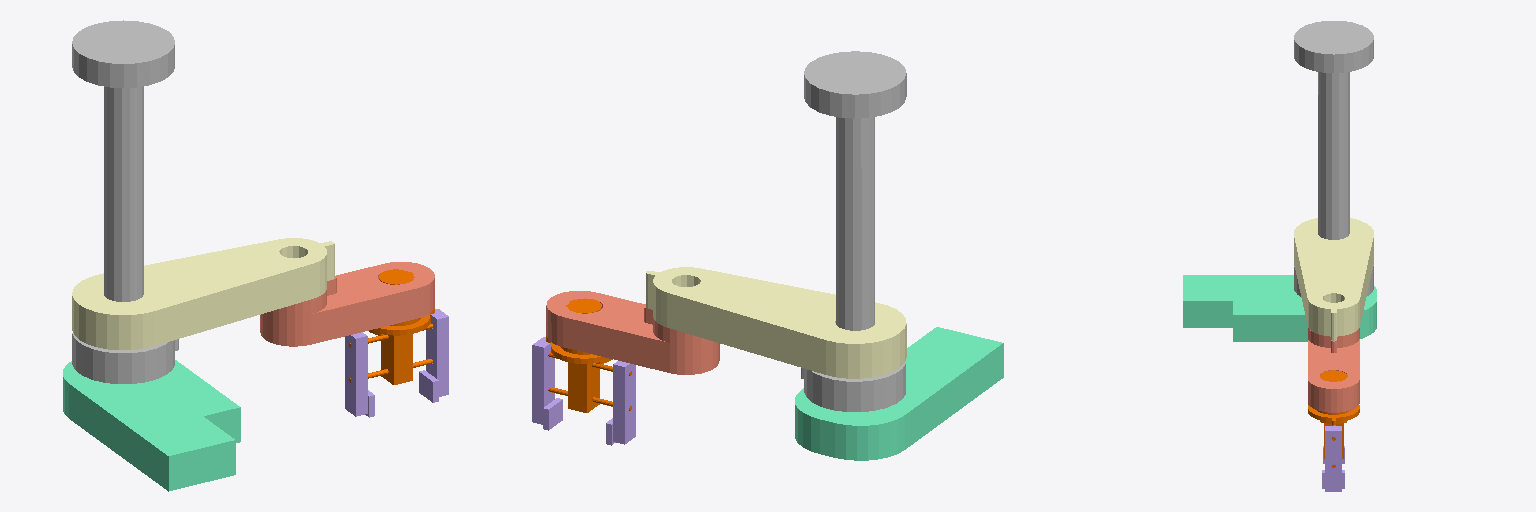
The robot description file, URDF, robot "Esamble_Sencillo_gripper":
<?xml version="1.0" encoding="utf-8"?>
<!-- This URDF was automatically created by SolidWorks to URDF Exporter! Originally created by [author] ([email redacted]) 
     Commit Version: 1.6.0-4-g7f85cfe  Build Version: 1.6.7995.38578
     For more information, please see http://wiki.ros.org/sw_urdf_exporter -->
<robot
  name="Esamble_Sencillo_gripper">

  <!-- Link "mundo" para anclar el robot 
  <link name="world" />
  
   Joint fijo que conecta el mundo con la base del robot 
  <joint name="world_to_base_joint" type="fixed">
    <parent link="world" />
    <child link="base_link" />
    <origin xyz="0 0 0" rpy="0 0 0" />
  </joint>
  -->

  <link
    name="base_link">
    <inertial>
      <origin
        xyz="-0.0050268 -0.078183 -0.0225"
        rpy="0 0 0" />
      <mass
        value="1.5106" />
      <inertia
        ixx="0.0093016"
        ixy="-0.00083013"
        ixz="-7.7076E-20"
        iyy="0.0025817"
        iyz="-1.5891E-19"
        izz="0.011373" />
    </inertial>
    <visual>
      <origin
        xyz="0 -0.0425 0"
        rpy="1.57 0 0" />
      <geometry>
        <mesh
          filename="package://scara_description/meshes/base_link.STL" />
      </geometry>
      <material
        name="">
        <color
          rgba="0.5 1.0 0.8 1.0" /> 
      </material>
    </visual>
    <collision>
      <origin
        xyz="0 -0.0425 0"
        rpy="1.57 0 0" />
      <geometry>
        <mesh
          filename="package://scara_description/meshes/base_link.STL" />
      </geometry>
    </collision>
  </link>


  <link
    name="Revolute_1_Link">
    <inertial>
      <origin
        xyz="0.00013035 -6.9389E-18 0.14006"
        rpy="0 0 0" />
      <mass
        value="1.4899" />
      <inertia
        ixx="0.035352"
        ixy="-3.1241E-21"
        ixz="3.3345E-05"
        iyy="0.035365"
        iyz="1.3213E-18"
        izz="0.0016385" />
    </inertial>
    <visual>
      <origin
        xyz="0 -0.0425 -0.0525"
        rpy="1.57 0 0" />
      <geometry>
        <mesh
          filename="package://scara_description/meshes/Revolute_1_Link.STL" />
      </geometry>
      <material
        name="">
        <color
          rgba="0.8 0.8 0.8 1.0" />
      </material>
    </visual>
    <collision>
      <origin
        xyz="0 -0.0425 -0.0525"
        rpy="1.57 0 0" />
      <geometry>
        <mesh
          filename="package://scara_description/meshes/Revolute_1_Link.STL" />
      </geometry>
    </collision>
  </link>


  <joint
    name="Revolute_1_Jint"
    type="revolute">
    <origin
      xyz="0 0 0.0525"
      rpy="0 0 0" />
    <parent
      link="base_link" />
    <child
      link="Revolute_1_Link" />
    <axis
      xyz="0 0 1" />
  <limit lower="-3.1415" upper="3.1415" effort="10" velocity="1.0" />
  </joint>


  <link
    name="Prismatic_1_link">
    <inertial>
      <origin
        xyz="0.094766 0 0.0225"
        rpy="0 0 0" />
      <mass
        value="1.2694" />
      <inertia
        ixx="0.0013484"
        ixy="5.6661E-19"
        ixz="5.1896E-20"
        iyy="0.009623"
        iyz="-2.4505E-22"
        izz="0.010543" />
    </inertial>
    <visual>
      <origin
        xyz="0 -0.0425 -0.3"
        rpy="1.57 0 0" />
      <geometry>
        <mesh
          filename="package://scara_description/meshes/Prismatic_1_link.STL" />
      </geometry>
      <material
        name="">
        <color
          rgba="1.0 1.0 0.8 1.0" />
      </material>
    </visual>
    <collision>
      <origin
        xyz="0 -0.0425 -0.3"
        rpy="1.57 0 0" />
      <geometry>
        <mesh
          filename="package://scara_description/meshes/Prismatic_1_link.STL" />
      </geometry>
    </collision>
  </link>
  <joint
    name="Prismatic_1_Joint"
    type="prismatic">
    <origin
      xyz="0 0 0.0525"
      rpy="0 0 0" />
    <parent
      link="Revolute_1_Link" />
    <child
      link="Prismatic_1_link" />
    <axis
      xyz="0 0 1" />
    <limit
      lower="0"
      upper="0.254"
      effort="0"
      velocity="0" />
  </joint>
  <link
    name="Revolute_2_Link">
    <inertial>
      <origin
        xyz="0.061686 -6.9389E-18 -0.015864"
        rpy="0 0 0" />
      <mass
        value="0.61164" />
      <inertia
        ixx="0.00044425"
        ixy="2.8532E-20"
        ixz="0.00013287"
        iyy="0.0022992"
        iyz="-1.7404E-20"
        izz="0.0024904" />
    </inertial>
    <visual>
      <origin
        xyz="-0.228 -0.0425 -0.281"
        rpy="1.57 0 0" />
      <geometry>
        <mesh
          filename="package://scara_description/meshes/Revolute_2_Link.STL" />
      </geometry>
      <material
        name="">
        <color
          rgba="1.0 0.6 0.5 1.0" />
      </material>
    </visual>
    <collision>
      <origin
        xyz="-0.228 -0.0425 -0.281"
        rpy="1.57 0 0" />
      <geometry>
        <mesh
          filename="package://scara_description/meshes/Revolute_2_Link.STL" />
      </geometry>
    </collision>
  </link>
  <joint
    name="Revolute_2_Joint"
    type="revolute">
    <origin
      xyz="0.228 0 -0.019"
      rpy="0 0 0" />
    <parent
      link="Prismatic_1_link" />
    <child
      link="Revolute_2_Link" />
    <axis
      xyz="0 0 1" />
    <limit lower="-3.1415" upper="3.1415" effort="10" velocity="1.0" />
  </joint>
  <link
    name="Revolute_3_Link">
    <inertial>
      <origin
        xyz="0.00011013 0 0.0012399"
        rpy="0 0 0" />
      <mass
        value="0.18414" />
      <inertia
        ixx="0.00022791"
        ixy="-9.8815E-22"
        ixz="7.5358E-09"
        iyy="0.00023992"
        iyz="-5.115E-21"
        izz="7.1114E-05" />
    </inertial>
    <visual>
      <origin
        xyz="-0.363 -0.0425 -0.224"
        rpy="1.57 0 0" />
      <geometry>
        <mesh
          filename="package://scara_description/meshes/Revolute_3_Link.STL" />
      </geometry>
      <material
        name="">
        <color
          rgba="1.0 0.5 0.0 1.0" />
      </material>
    </visual>
    <collision>
      <origin
        xyz="-0.363 -0.0425 -0.224"
        rpy="1.57 0 0" />
      <geometry>
        <mesh
          filename="package://scara_description/meshes/Revolute_3_Link.STL" />
      </geometry>
    </collision>
  </link>

  <joint
    name="Revolute_3_Joint"
    type="revolute">
    <origin
      xyz="0.1365 0 -0.057"
      rpy="0 0 0" />
    <parent
      link="Revolute_2_Link" />
    <child
      link="Revolute_3_Link" />
    <axis
      xyz="0 0 -1" />
    <limit lower="-3.1415" upper="3.1415" effort="10" velocity="1.0" />
  </joint>

  <link
    name="Griper_Left_Link">
    <inertial>
      <origin
        xyz="0.033773 1.3878E-17 -0.014211"
        rpy="0 0 0" />
      <mass
        value="0.047823" />
      <inertia
        ixx="4.7679E-06"
        ixy="-1.7177E-20"
        ixz="2.8888E-06"
        iyy="4.5792E-05"
        iyz="9.5566E-22"
        izz="4.7001E-05" />
    </inertial>
    <visual>
      <origin
        xyz="-0.1315 -0.0425 0.326"
        rpy="1.57 1.57 0" />
      <geometry>
        <mesh
          filename="package://scara_description/meshes/Griper_Left_Link.STL" />
      </geometry>
      <material
        name="">
        <color
          rgba="0.8 0.7 1.0 1.0" />
      </material>
    </visual>
    <collision>
      <origin
        xyz="-0.1315 -0.0425 0.326"
        rpy="1.57 1.57 0" />
      <geometry>
        <mesh
          filename="package://scara_description/meshes/Griper_Left_Link.STL" />
      </geometry>
    </collision>
  </link>


  <joint
    name="Gripper_Left_Joint"
    type="prismatic">
    <origin
      xyz="-0.03775 0 -0.0925"
      rpy="-1.5708 -1.5708 1.5708" />
    <parent
      link="Revolute_3_Link" />
    <child
      link="Griper_Left_Link" />
    <axis
      xyz="0 0 -1" />
    <limit
      lower="0"
      upper="0.033"
      effort="0"
      velocity="0" />
  </joint>


  <link
    name="Gripper_Right_Link">
    <inertial>
      <origin
        xyz="0 0.033773 -0.014211"
        rpy="0 0 0" />
      <mass
        value="0.047823" />
      <inertia
        ixx="4.5792E-05"
        ixy="1.3317E-20"
        ixz="-1.1452E-21"
        iyy="4.7679E-06"
        iyz="2.8888E-06"
        izz="4.7001E-05" />
    </inertial>
    <visual>
      <origin
        xyz="0.0425 -0.131 0.40"
        rpy="0 1.57 0" />
      <geometry>
        <mesh
          filename="package://scara_description/meshes/Gripper_Right_Link.STL" />
      </geometry>
      <material
        name="">
        <color
          rgba="0.8 0.7 1.0 1.0" />
      </material>
    </visual>
    <collision>
      <origin
        xyz="0.0425 -0.131 0.40"
        rpy="0 1.57 0" />
      <geometry>
        <mesh
          filename="package://scara_description/meshes/Gripper_Right_Link.STL" />
      </geometry>
    </collision>
  </link>
  <joint
    name="Gripper_Right_Joint"
    type="prismatic">
    <origin
      xyz="0.03775 0 -0.093"
      rpy="1.5708 0 -1.5708" />
    <parent
      link="Revolute_3_Link" />
    <child
      link="Gripper_Right_Link" />
    <axis
      xyz="0 0 1" />
    <limit
      lower="0"
      upper="0.033"
      effort="0"
      velocity="0" />
  </joint>
</robot>

--- What the picture shows (computed from the rendered views, not written in the file) ---
3 views of the same robot in one strip: view 1: azimuth 30°, elevation 25°; view 2: azimuth 150°, elevation 25°; view 3: azimuth 270°, elevation 25° (orthographic).
Robot: Esamble_Sencillo_gripper — 7 links, 6 joints (3 revolute, 3 prismatic); root link base_link; default pose: all joints at 0.
Visible links, largest first — view 1: Revolute_1_Link, Prismatic_1_link, base_link, Revolute_2_Link, Revolute_3_Link, Gripper_Right_Link, Griper_Left_Link; view 2: Revolute_1_Link, Prismatic_1_link, base_link, Revolute_2_Link, Revolute_3_Link, Gripper_Right_Link, Griper_Left_Link; view 3: Revolute_1_Link, base_link, Prismatic_1_link, Revolute_2_Link, Gripper_Right_Link, Revolute_3_Link.
Link boxes in pixels (x1,y1,x2,y2): Revolute_1_Link: (72,20,178,383); Prismatic_1_link: (72,238,334,349); base_link: (63,360,240,491); Revolute_2_Link: (260,262,434,346); Revolute_3_Link: (349,269,434,384); Gripper_Right_Link: (419,309,448,402); Griper_Left_Link: (345,332,374,417); Revolute_1_Link: (801,51,906,411); Prismatic_1_link: (646,267,906,378); base_link: (795,327,1003,460); Revolute_2_Link: (546,291,719,374); Revolute_3_Link: (546,298,631,412); Gripper_Right_Link: (532,337,562,430); Griper_Left_Link: (606,361,635,445); Revolute_1_Link: (1294,21,1373,296); base_link: (1183,275,1376,341); Prismatic_1_link: (1294,218,1373,340); Revolute_2_Link: (1308,328,1359,412); Gripper_Right_Link: (1322,426,1344,491); Revolute_3_Link: (1308,370,1359,467).
Bounding box of the posed robot: 0.4988 × 0.29 × 0.5492 m (x, y, z).
7 mesh visuals loaded from 7 distinct referenced files (7 binary STL).
